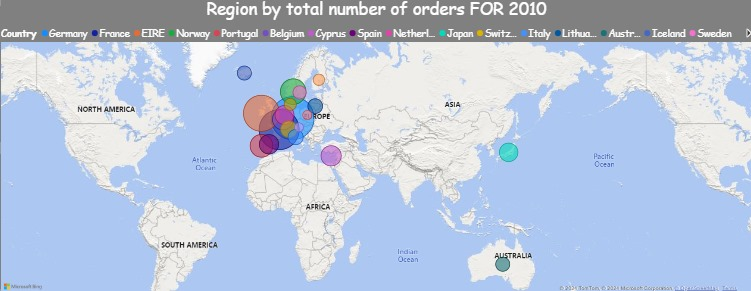

This screenshot's page, from the dashboard's own definition file:
{"tool":"powerbi","page":{"name":"Question 4","canvas":[1280,720],"ordinal":3},"visuals":[{"type":"slicer","title":"Year","fields":{"Values":["Online Retail.InvoiceDate.Variation.Date Hierarchy.Year"]},"box":[760.9,0,519.1,149.5],"z":0},{"type":"textbox","box":[8,0,753,150],"z":1000},{"type":"map","title":"Region by total number of orders","fields":{"Category":["Online Retail.Country"],"Series":["Online Retail.Country"],"Size":["CountNonNull(Online Retail.CustomerID)"]},"box":[8.4,215,1271.6,505.6],"z":2000},{"type":"actionButton","box":[0,0,100,40],"z":3000}]}

Visuals, with their boxes on the page's 1280x720 design canvas (x1, y1, x2, y2). These are canvas units, not pixel positions in the 751x291 screenshot, which may show the page scaled, cropped or inside an application window:
"Year" slicer: region(761, 0, 1280, 150)
textbox: region(8, 0, 761, 150)
"Region by total number of orders" map: region(8, 215, 1280, 721)
actionButton: region(0, 0, 100, 40)
